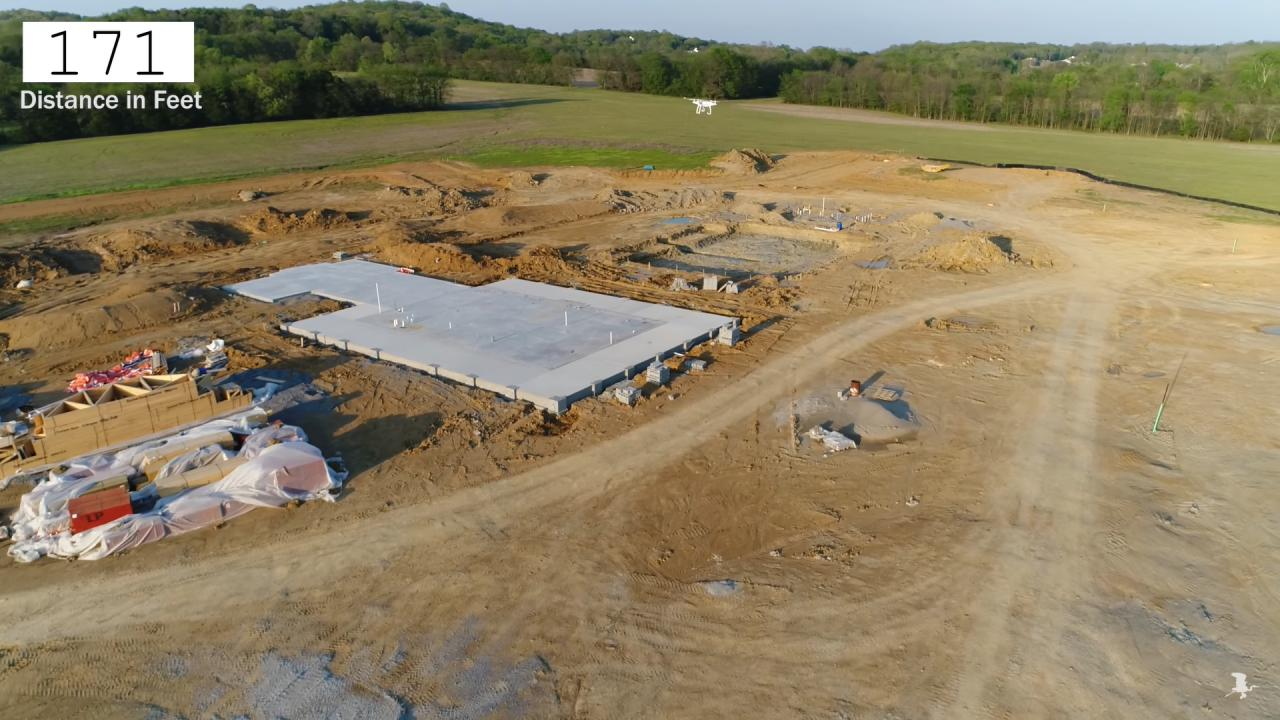Drone: (680, 90, 726, 122)
